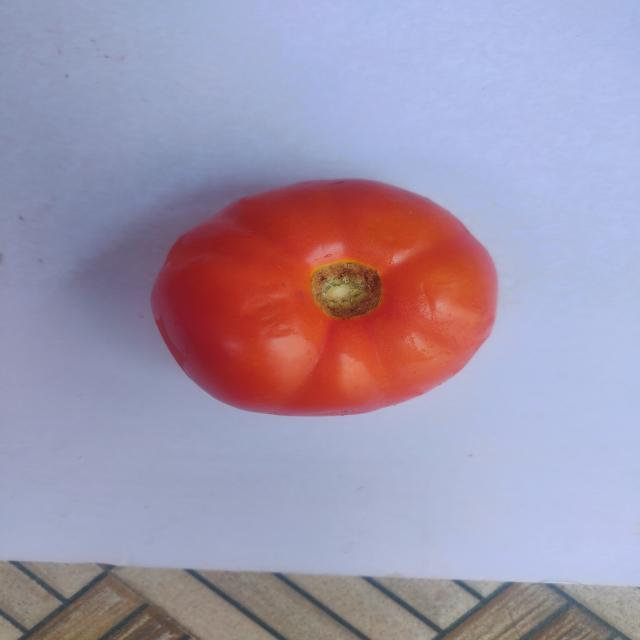Tomato: (137, 175, 545, 438)
